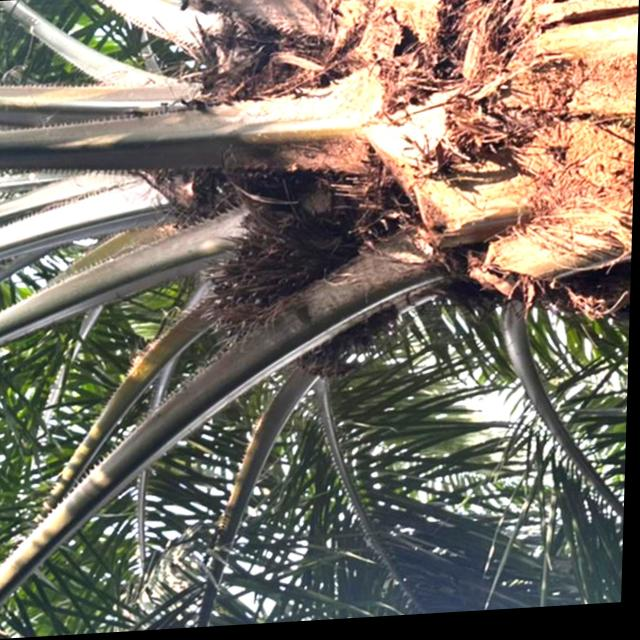ripe: (201, 201, 350, 354)
